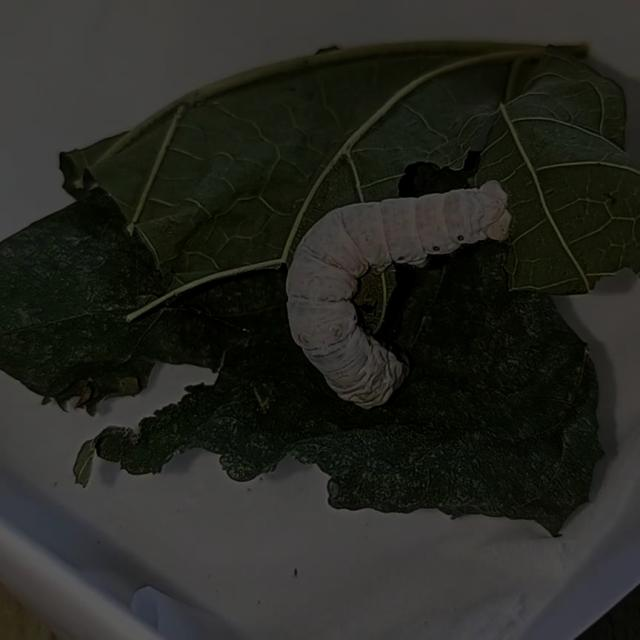Healthy: (252, 147, 533, 450)
